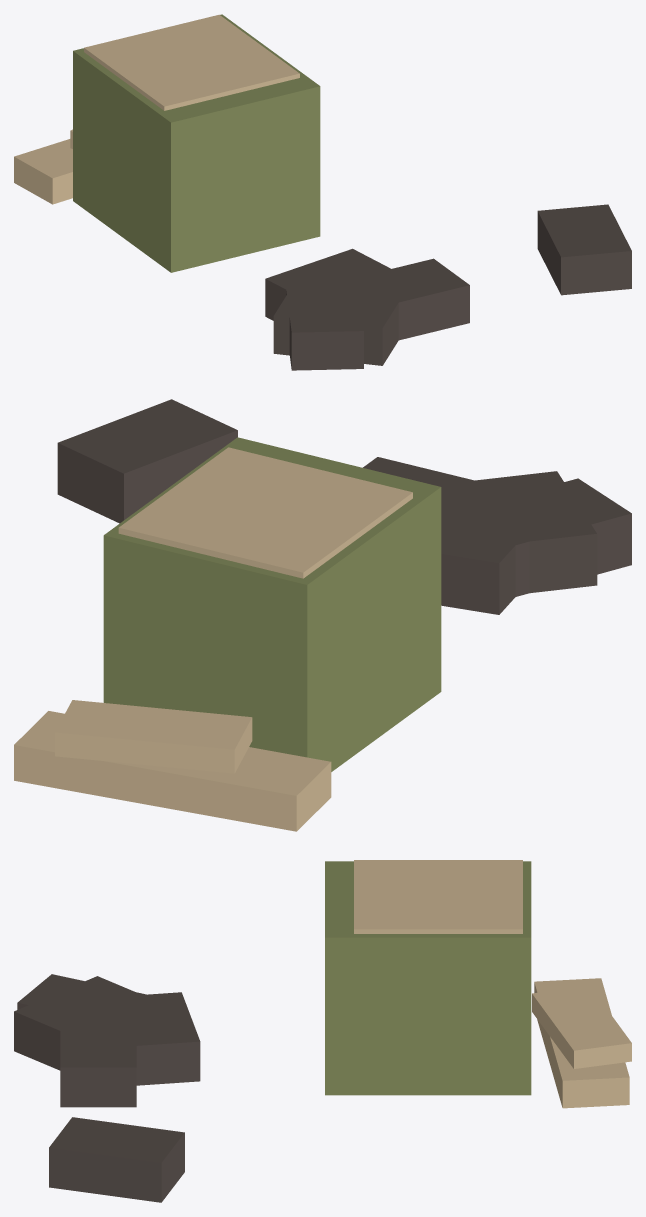
File: SM_HescoCorto1_v2_Escalonado_e2_MuyDanado_LOD1.fbx
3 views of the same model, one above another, from view 1: azimuth 30°, elevation 25°; view 2: azimuth 150°, elevation 25°; view 3: azimuth 270°, elevation 25° (orthographic). The views are drawn at different scales.
Parts seen in each view (by area): view 1: SM_hesco_piezas_v50_LOD1; view 2: SM_hesco_piezas_v50_LOD1; view 3: SM_hesco_piezas_v50_LOD1.
Part boxes in pixels (box(x1,y1,x2,y2)): SM_hesco_piezas_v50_LOD1: box(14, 14, 631, 370); SM_hesco_piezas_v50_LOD1: box(14, 399, 631, 831); SM_hesco_piezas_v50_LOD1: box(14, 860, 631, 1202).
Size of the model in its own units: 2.76 by 1.06 by 3.66.
